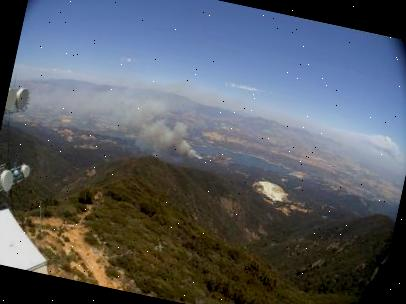smoke: (43, 60, 220, 170)
